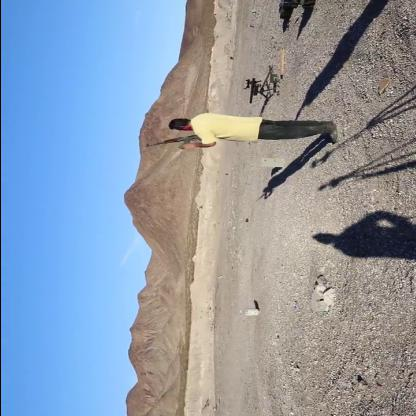long weapon: (140, 132, 212, 158), (235, 68, 277, 108)
